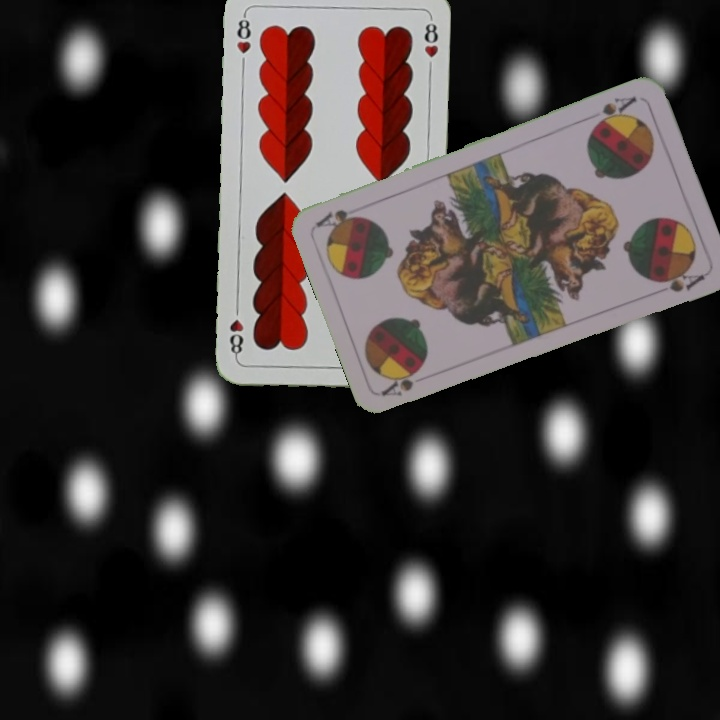H8: (233, 10, 254, 56)
SA: (588, 92, 640, 131), (378, 367, 423, 399)
